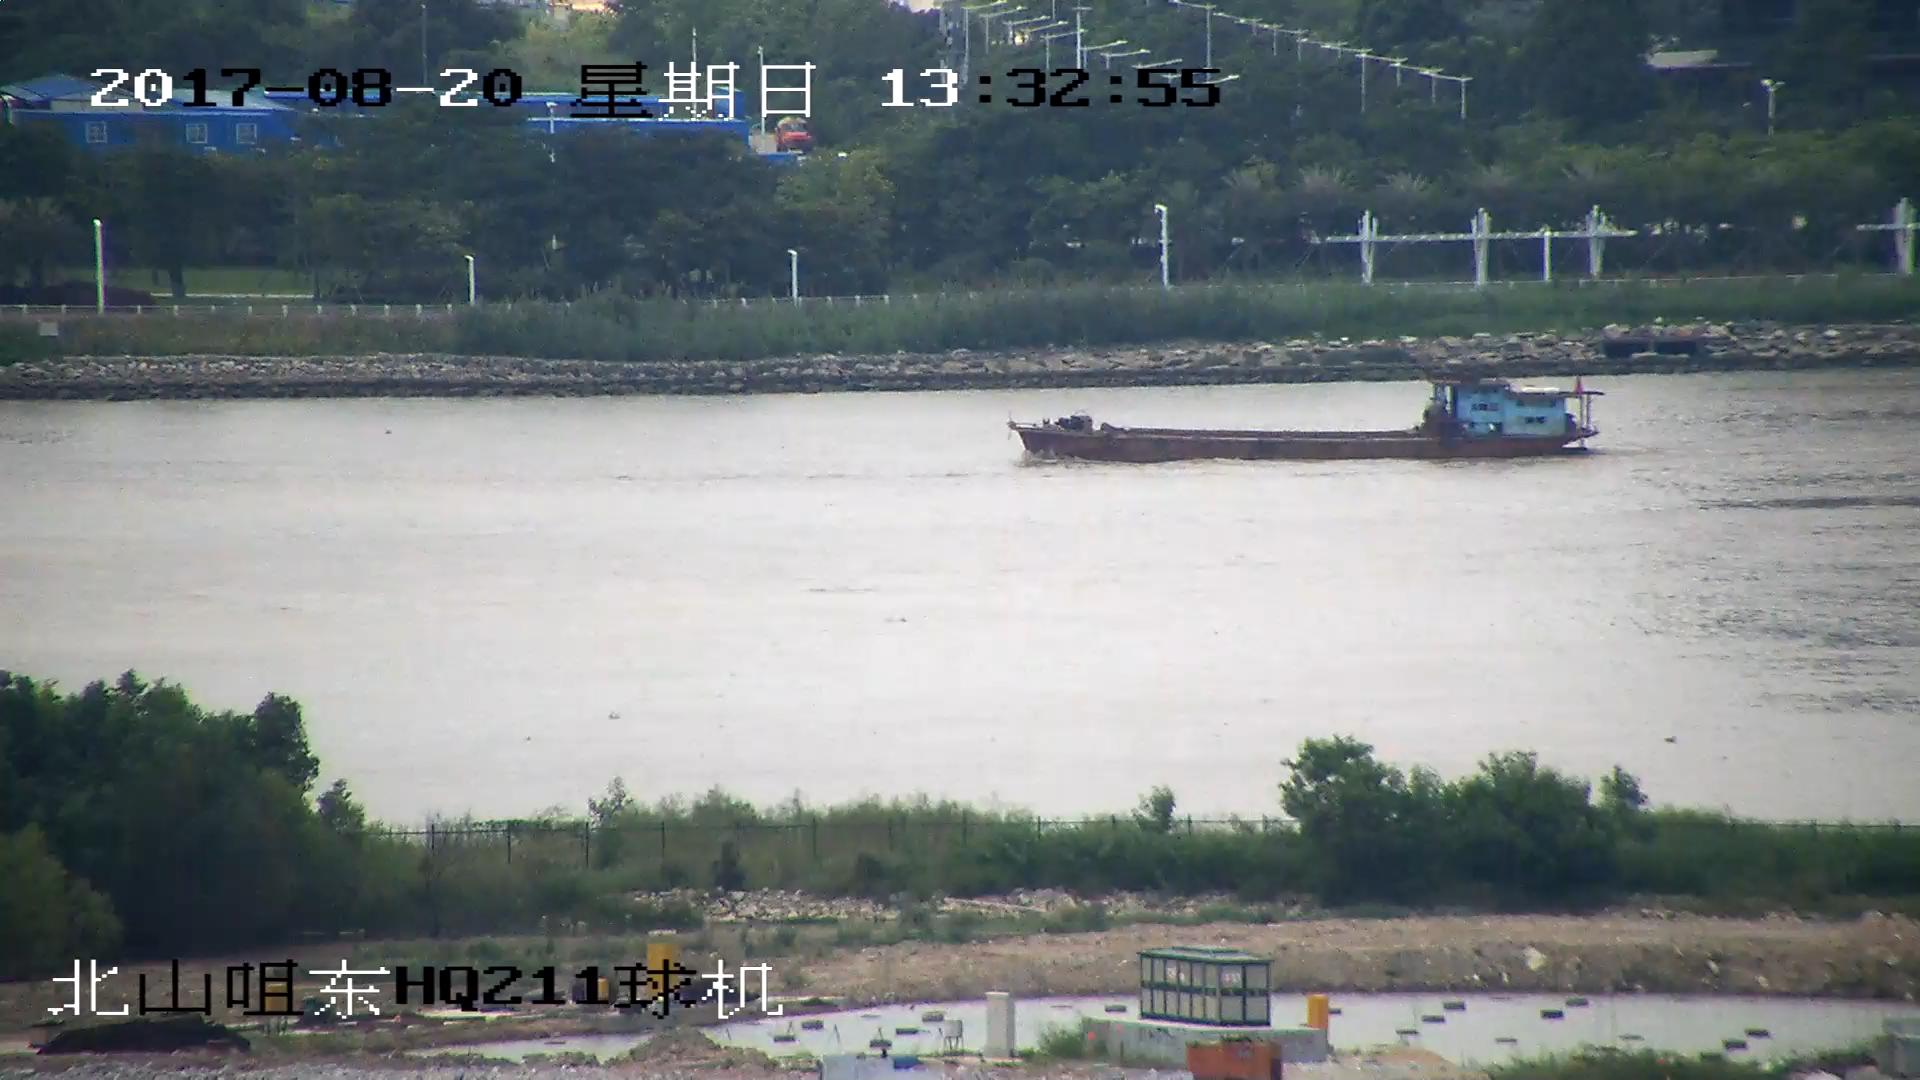bulk cargo carrier: (1016, 379, 1601, 460)
